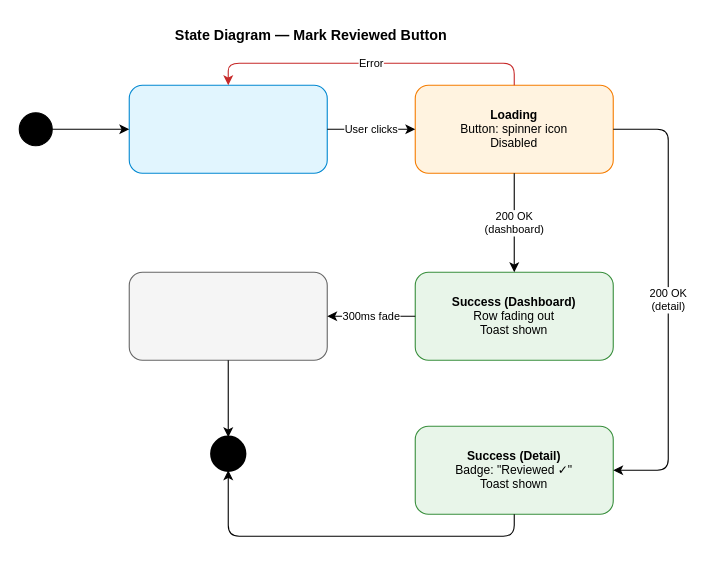
The diagram is 706 pixels wide and 564 high, and some of its shapes have lost their labels. The shapes that lost their labels are listed below. From the top down, each one's box as (x1, y1, x2, y2) in pixels, then its label:
(128, 84, 327, 173): Idle Button: "Mark Reviewed" Enabled, clickable
(128, 271, 327, 360): Removed Row gone from DOM
